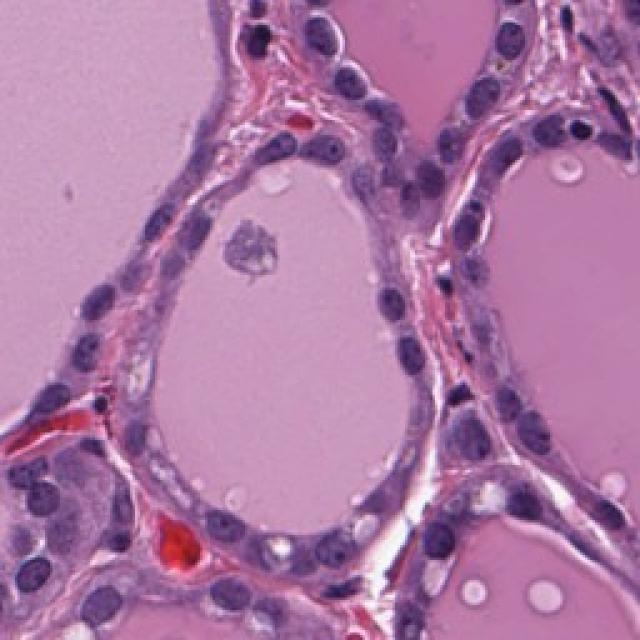normal: (322, 58, 399, 114), (66, 259, 134, 321), (196, 501, 259, 563), (198, 562, 262, 622), (411, 505, 460, 578), (295, 0, 355, 58), (434, 198, 485, 262), (485, 0, 535, 58), (419, 112, 468, 170), (246, 124, 295, 180), (526, 101, 572, 157), (396, 318, 432, 377), (364, 285, 408, 329)
